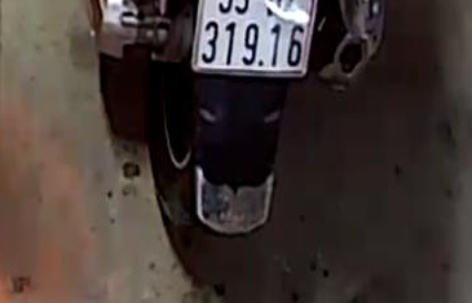plate: (192, 1, 310, 76)
